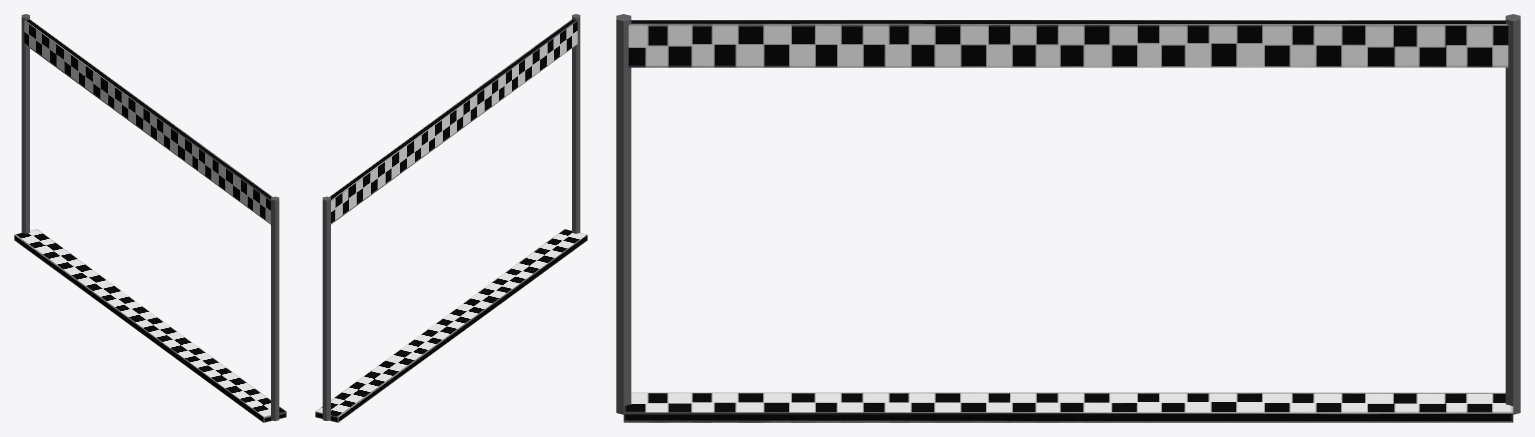
File: finishlijn.fbx
3 renders of one model, left to right at view 1: azimuth 30°, elevation 25°; view 2: azimuth 150°, elevation 25°; view 3: azimuth 270°, elevation 25°, orthographic. The views are drawn at different scales.
Visible parts, largest first — view 1: pCube3; view 2: pCube3; view 3: pCube3.
Boxes of the visible parts, x1,y1,x2,y2 form: pCube3: [14, 14, 286, 422]; pCube3: [315, 14, 587, 422]; pCube3: [616, 14, 1520, 422].
Size of the model in its own units: 1 by 9.23 by 19.13.
2 materials, 1 textured.
